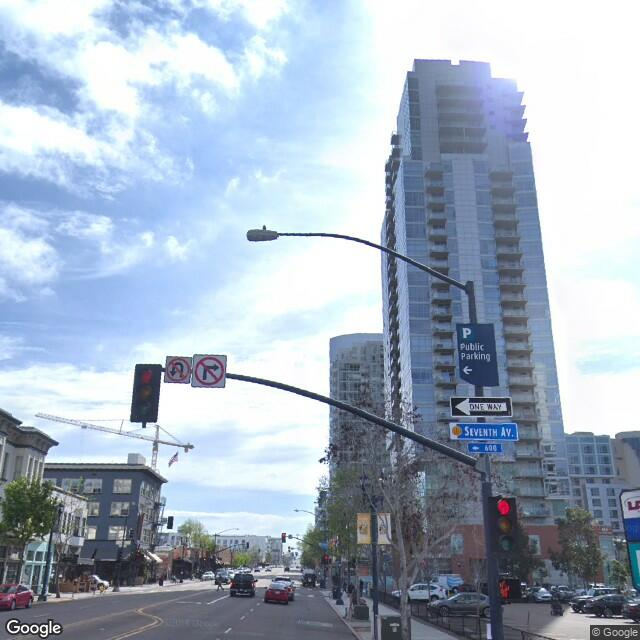light: (245, 225, 280, 244)
